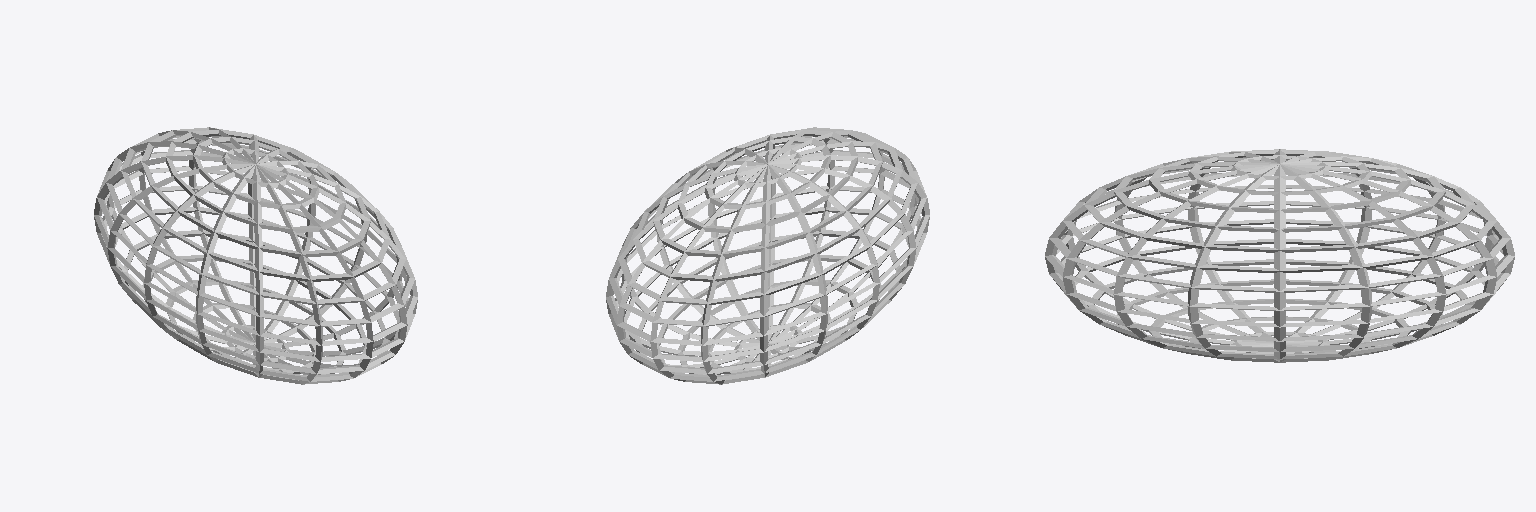
Rendered from Shoe.obj.
3 views of the same model, side by side, from view 1: azimuth 30°, elevation 25°; view 2: azimuth 150°, elevation 25°; view 3: azimuth 270°, elevation 25° (orthographic).
Parts seen in each view (by area): view 1: Shoes; view 2: Shoes; view 3: Shoes.
Boxes of the visible parts, <box> form: Shoes: <box>94,127,417,384</box>; Shoes: <box>606,127,929,384</box>; Shoes: <box>1045,149,1514,362</box>.
Bounding box in the file's own units: 2.05 × 1.61 × 3.73.